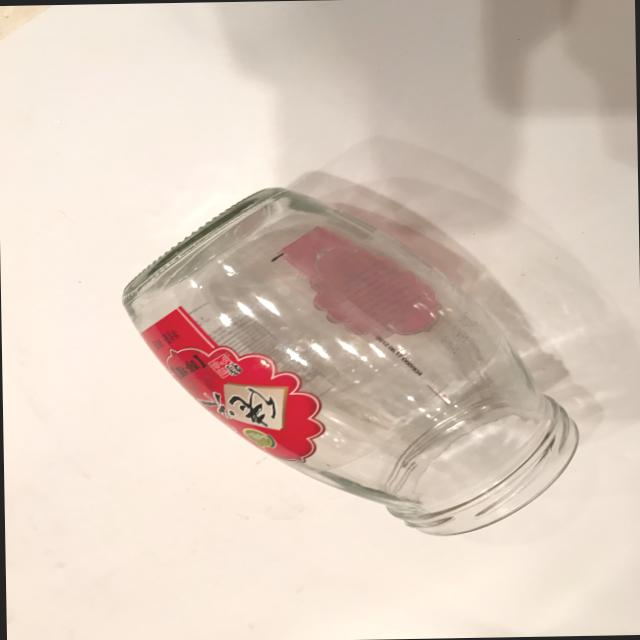Glass: (115, 172, 600, 550)
